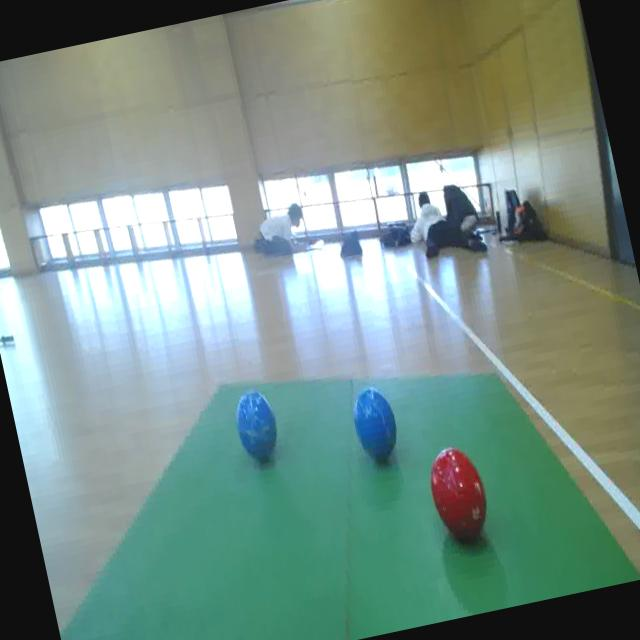blue_ball: (346, 381, 403, 465), (226, 386, 282, 460)
red_ball: (420, 441, 500, 552)
